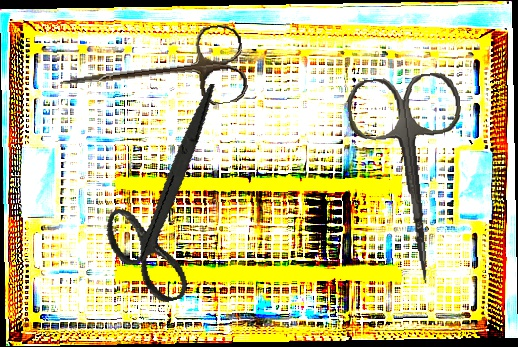Iris Scissors: (79, 83, 261, 312), (345, 70, 479, 290), (55, 22, 250, 126)
